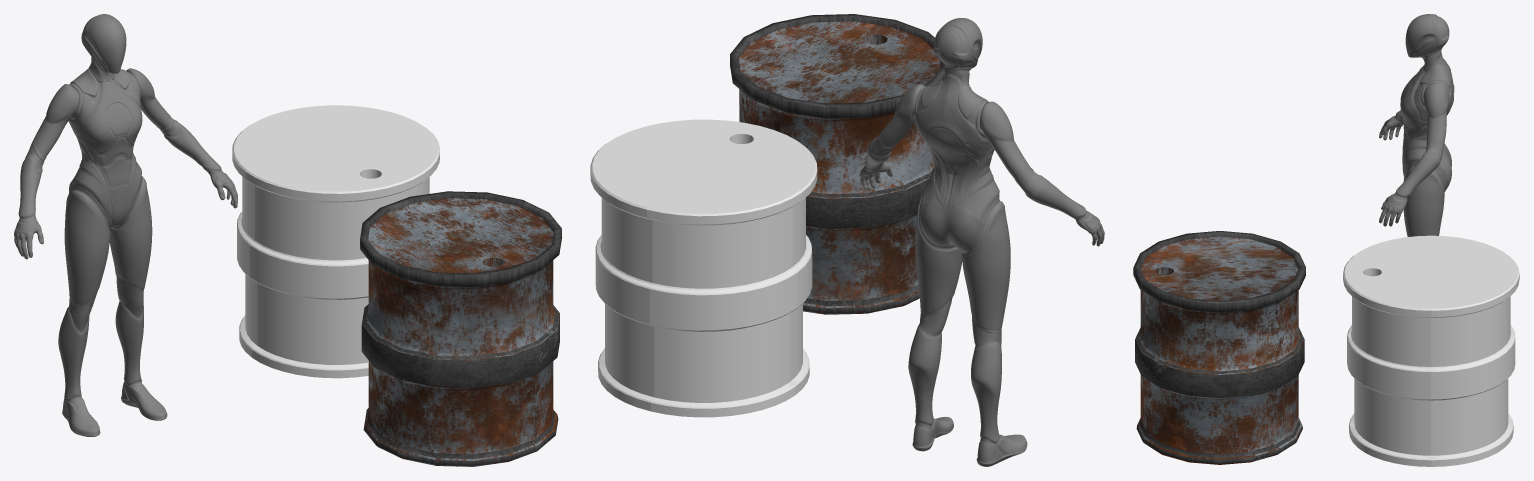
The model's file is OilDrums.fbx.
The picture shows the model from 3 angles, left to right: view 1: azimuth 30°, elevation 25°; view 2: azimuth 150°, elevation 25°; view 3: azimuth 270°, elevation 25°; orthographic projection. The views are drawn at different scales.
Parts seen in each view (by area): view 1: OilDrum, OilDrum1, SKM_Quinn_LOD0; view 2: OilDrum1, OilDrum, SKM_Quinn_LOD0; view 3: OilDrum, OilDrum1, SKM_Quinn_LOD0.
Boxes of the visible parts, x1,y1,x2,y2 form: OilDrum: (360, 191, 561, 466); OilDrum1: (232, 105, 439, 378); SKM_Quinn_LOD0: (14, 14, 237, 436); OilDrum1: (590, 119, 817, 417); OilDrum: (730, 14, 944, 314); SKM_Quinn_LOD0: (860, 18, 1104, 466); OilDrum: (1133, 231, 1305, 464); OilDrum1: (1343, 235, 1519, 466); SKM_Quinn_LOD0: (1379, 14, 1454, 236).
Bounding box in the file's own units: 205 × 180 × 188.
Materials: 4 (2 with a texture image).
